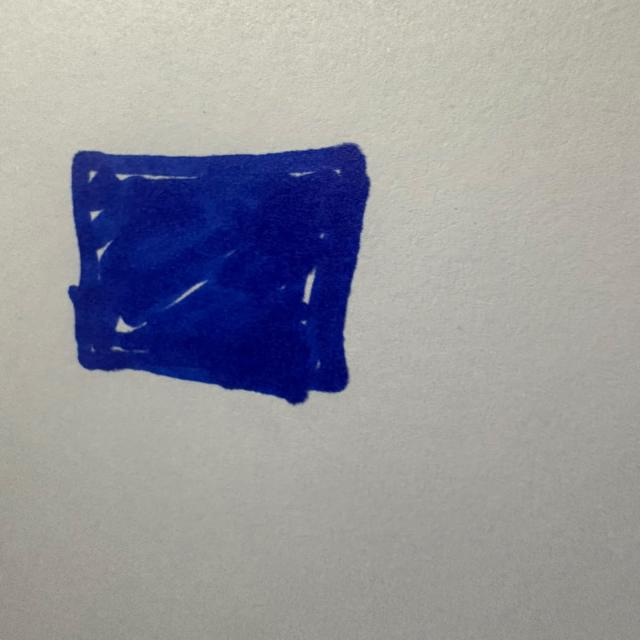Square: (68, 143, 370, 405)
